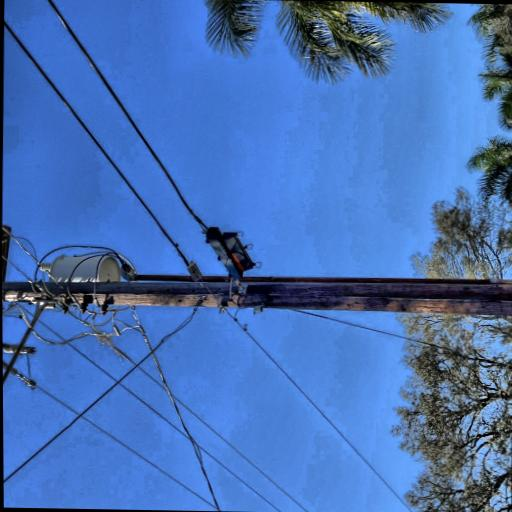pole: (67, 74, 115, 510)
street light: (2, 82, 84, 180)
transformer: (81, 169, 123, 257)
